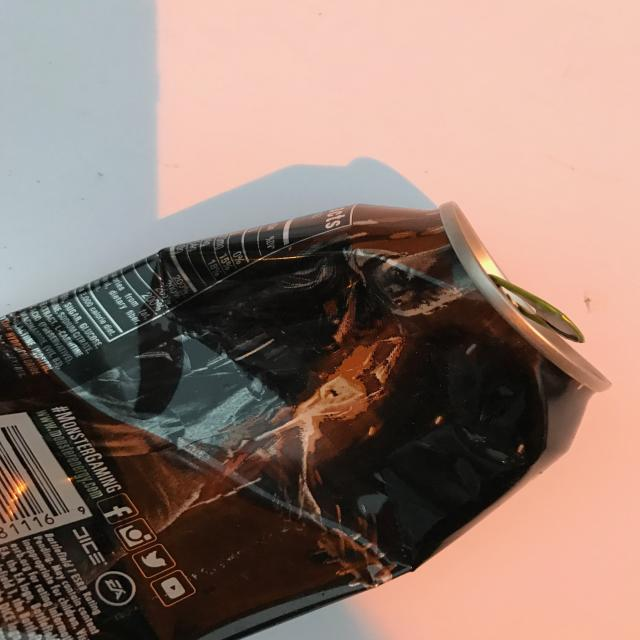metal: (0, 200, 611, 640)
